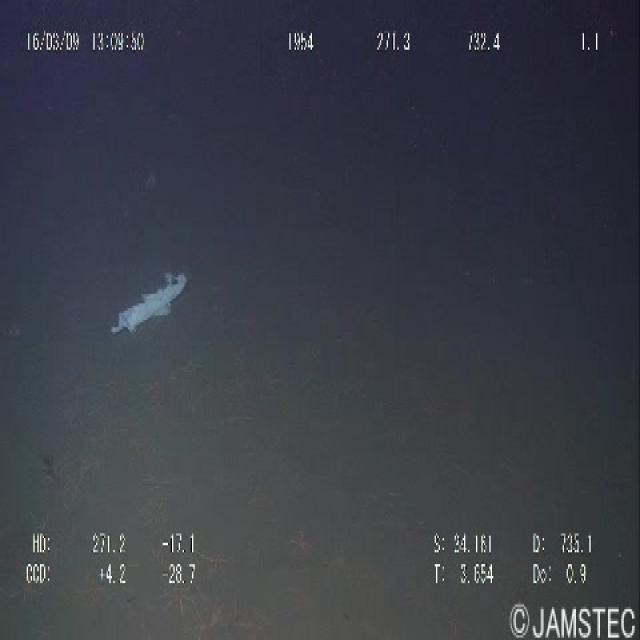plastic: (102, 258, 190, 351)
